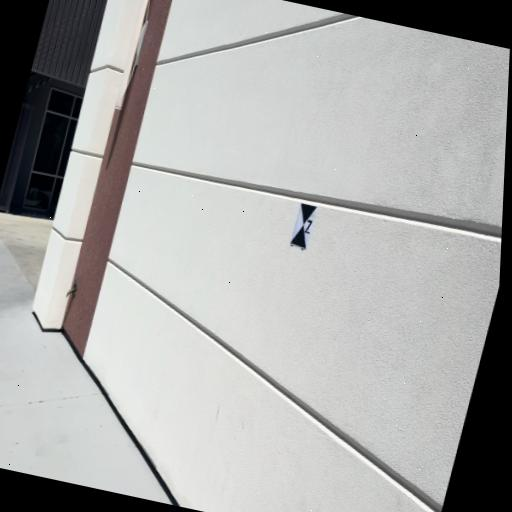target7: (291, 201, 317, 248)
